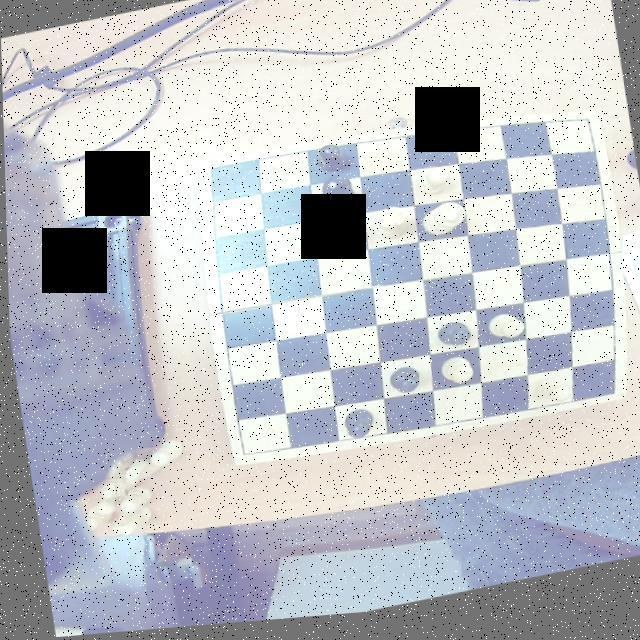chess-table-corners: (198, 160, 228, 188), (227, 441, 254, 468), (574, 120, 600, 144), (594, 392, 624, 412)
